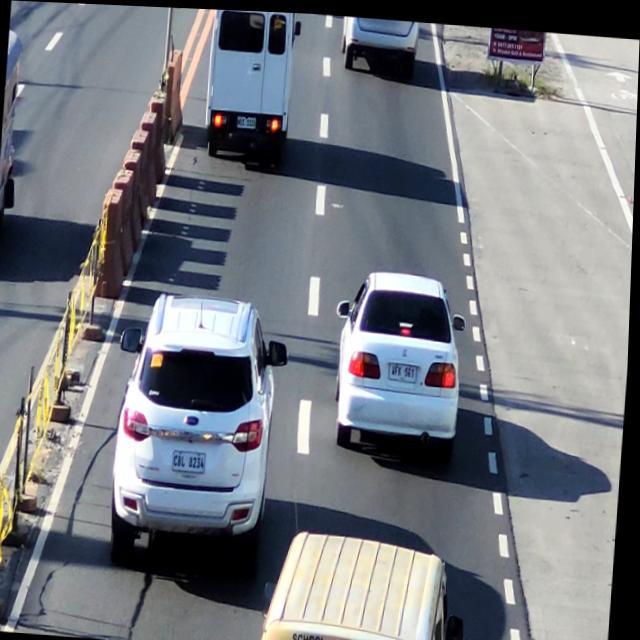Car: (114, 289, 287, 559), (330, 262, 474, 461), (200, 7, 299, 161), (339, 13, 416, 74)
Jeep: (269, 535, 460, 640)
License-Plate: (173, 446, 212, 474), (387, 353, 426, 381), (236, 106, 260, 129)
